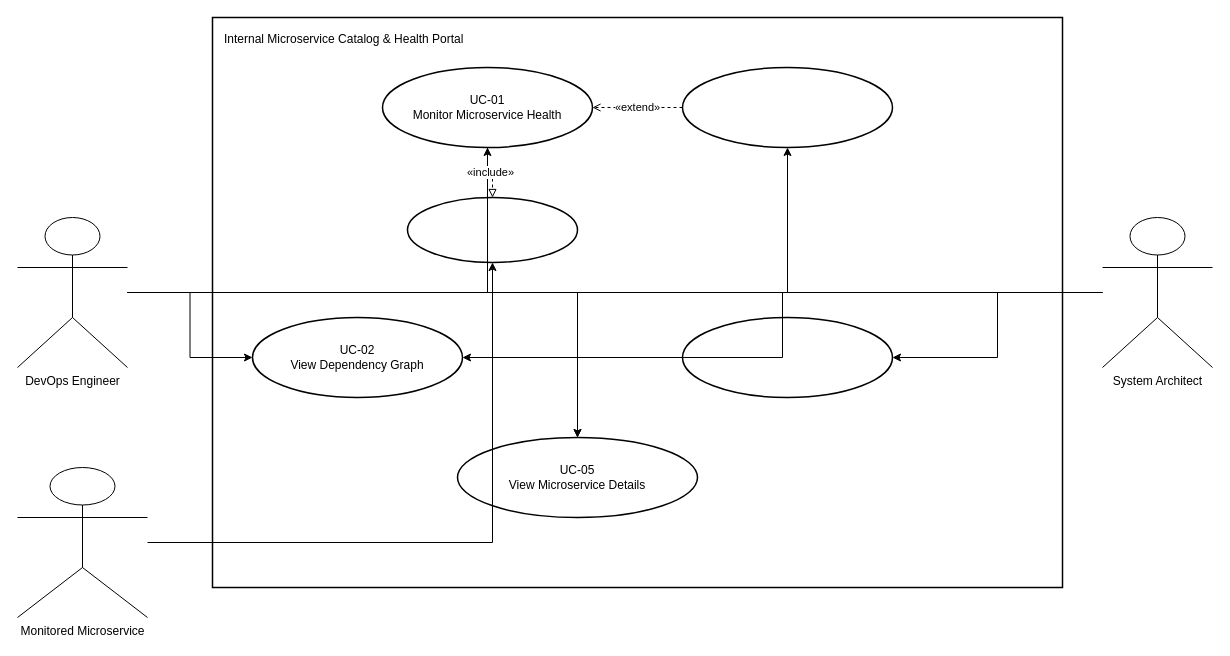
Some shapes in this 1230 by 656 pixel diagram are drawn without their labels. Here are the shapes that lost their labels. From the top down, the centre of each, then its label:
(x=787, y=107): UC-04 Receive Downtime Alert
(x=492, y=229): Ping Health Endpoint
(x=787, y=357): UC-03 View API Documentation
